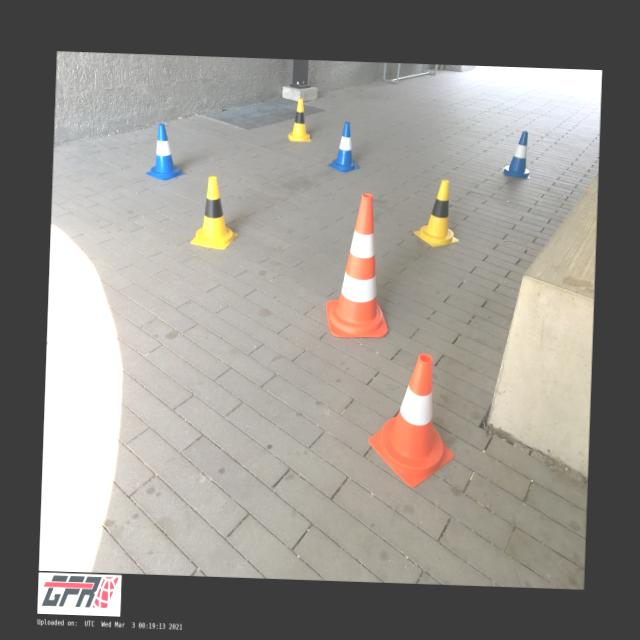blue_cone: (145, 122, 186, 180), (327, 121, 361, 172), (503, 130, 531, 179)
large_orange_cone: (325, 192, 392, 338)
orange_cone: (367, 352, 458, 490)
yellow_cone: (190, 176, 240, 250), (412, 178, 460, 247), (287, 98, 312, 142)
